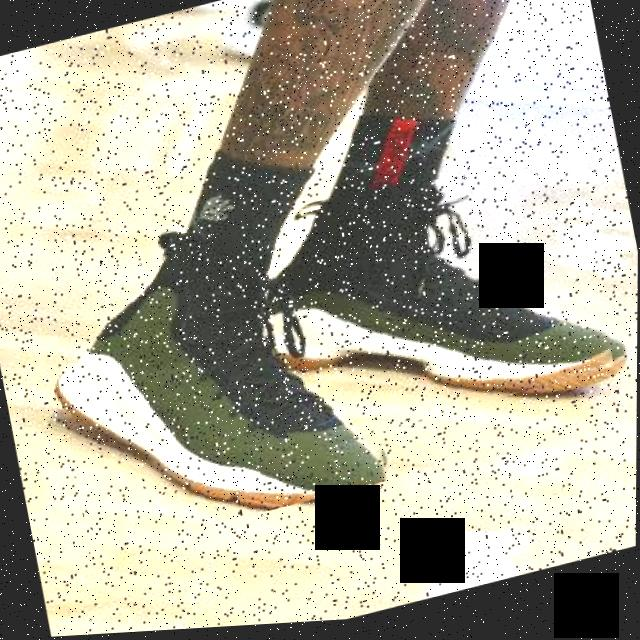shoe: (37, 206, 394, 560), (247, 147, 630, 464)
